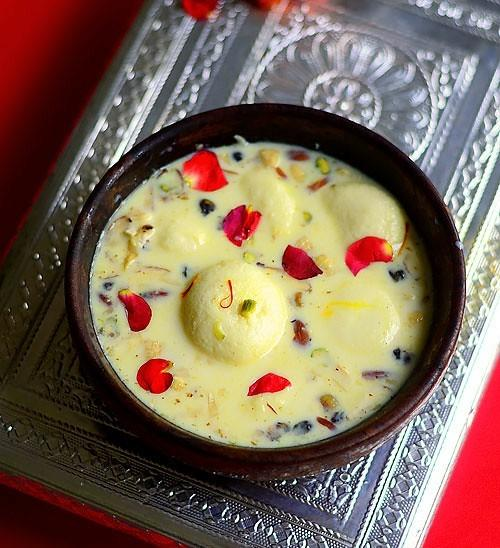RasMalai: (94, 139, 430, 445)
